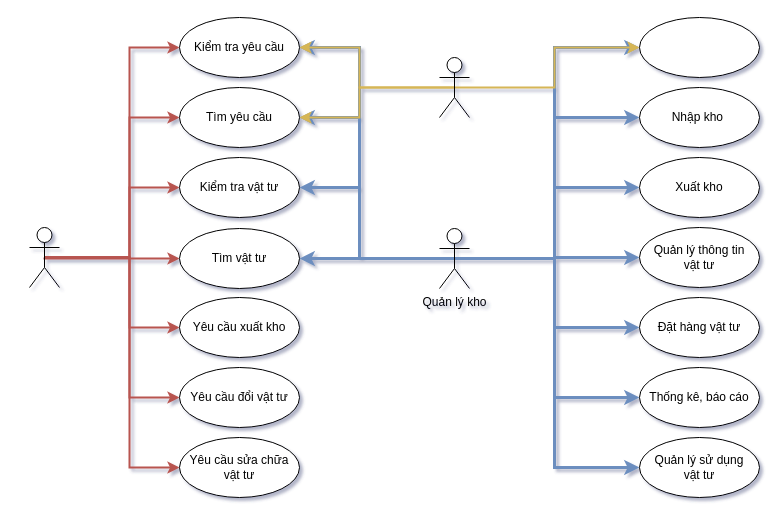
The diagram is 783 pixels wide and 521 high, and some of its shapes have lost their labels. Here are the shapes that lost their labels. From the top down, the centre of each, then its label:
At pixel 699 47: "Phê duyệt yêu cầu".
At pixel 454 87: "Quản lý dự án".
At pixel 44 257: "Nhân viên".
